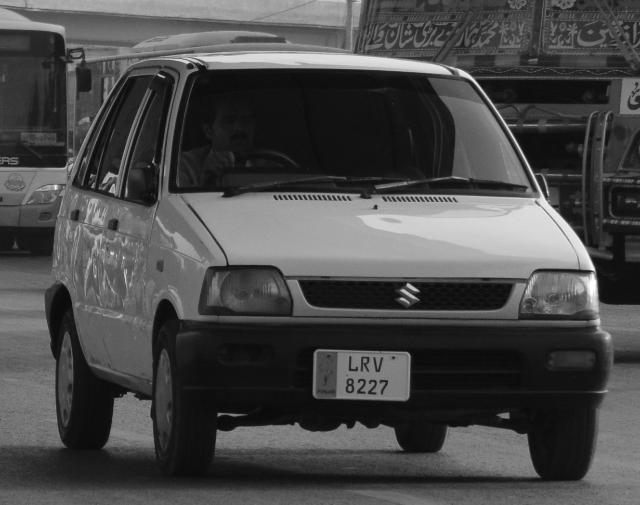Number: (342, 354, 392, 394)
